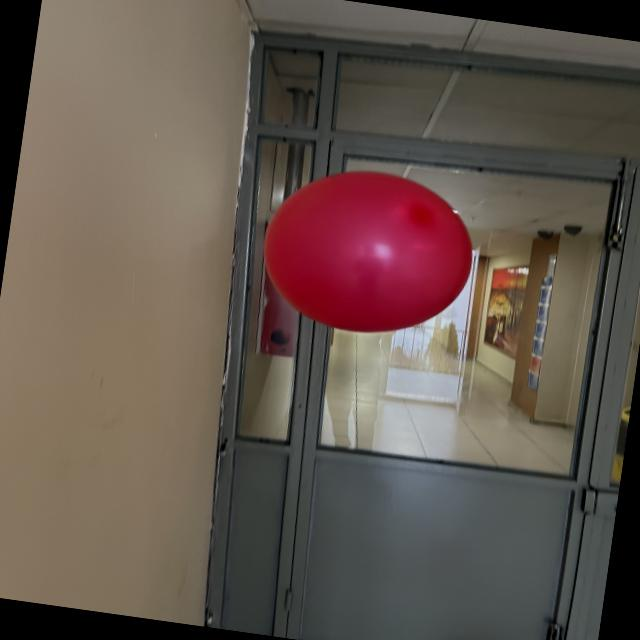balloon: (264, 172, 472, 332), (450, 281, 450, 282), (399, 282, 402, 282)
